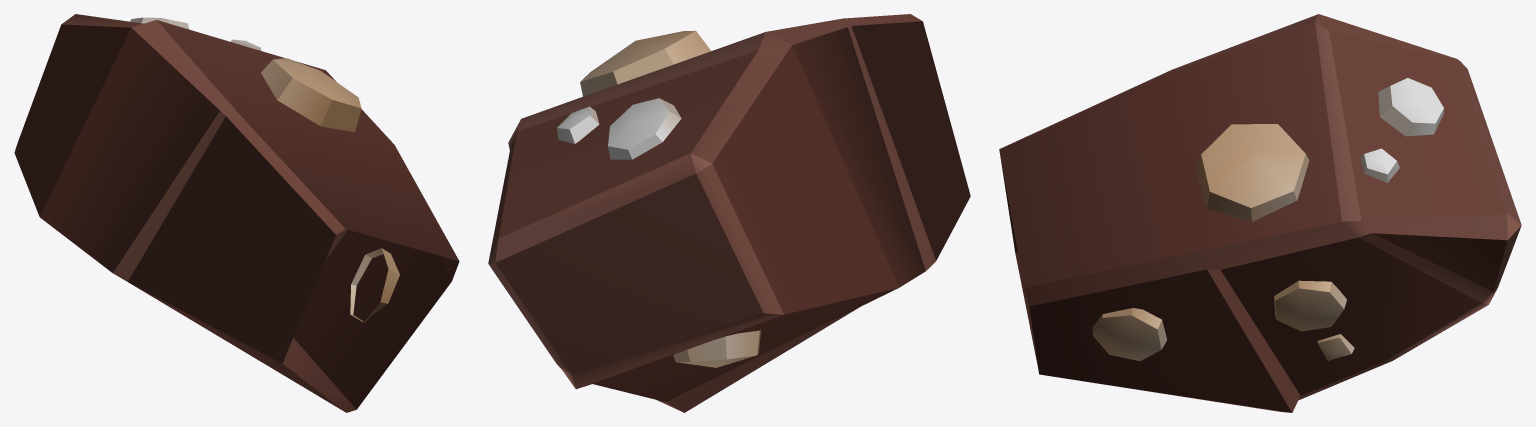
File: ChocolateChunkB.fbx
3 renders of one model, left to right at view 1: azimuth 30°, elevation 25°; view 2: azimuth 150°, elevation 25°; view 3: azimuth 270°, elevation 25°, orthographic. The views are drawn at different scales.
Visible parts, largest first — view 1: ChocolateChunkB; view 2: ChocolateChunkB; view 3: ChocolateChunkB.
Boxes of the visible parts, <box> form: ChocolateChunkB: <box>14,14,459,412</box>; ChocolateChunkB: <box>488,14,970,412</box>; ChocolateChunkB: <box>999,14,1521,412</box>.
Size of the model in its own units: 63.76 by 67.98 by 92.37.
